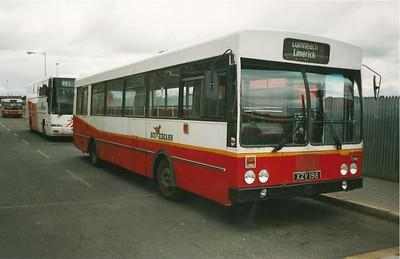bus: (73, 30, 366, 214), (27, 77, 76, 140), (1, 91, 23, 119)
